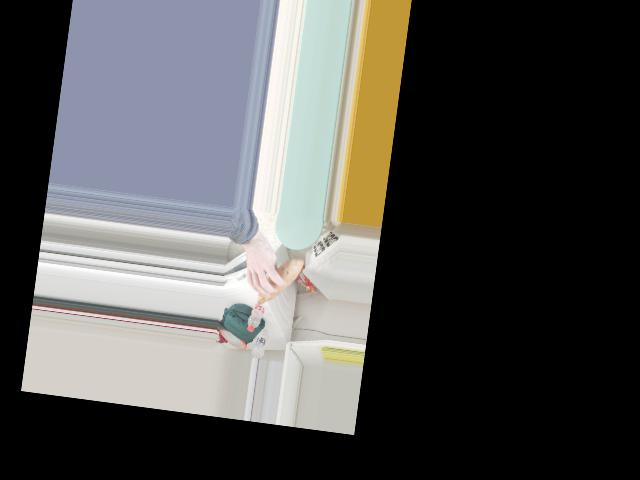sweet_potato: (245, 259, 301, 307)
